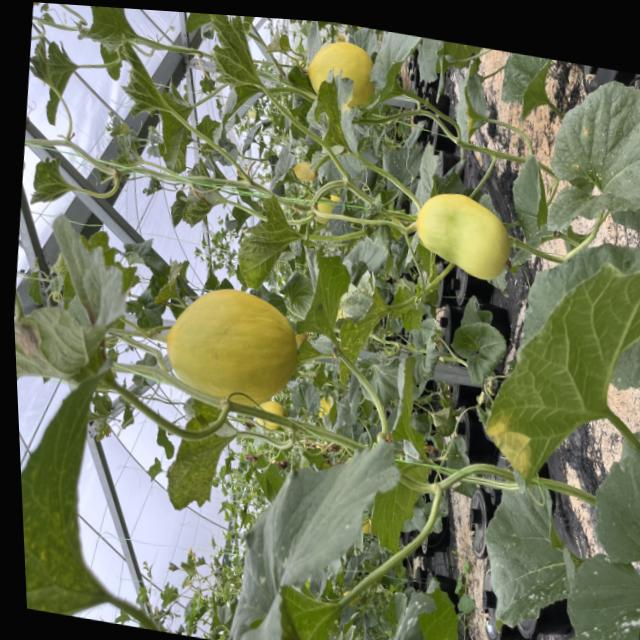CMV: (150, 413, 238, 535), (227, 186, 302, 299), (198, 13, 267, 97)
downy mildew: (470, 219, 640, 495), (537, 64, 640, 256), (330, 268, 395, 388), (288, 245, 355, 350), (299, 64, 355, 178), (386, 577, 465, 640)
powdery mildew: (473, 475, 586, 640), (553, 547, 640, 640), (489, 50, 564, 128)
